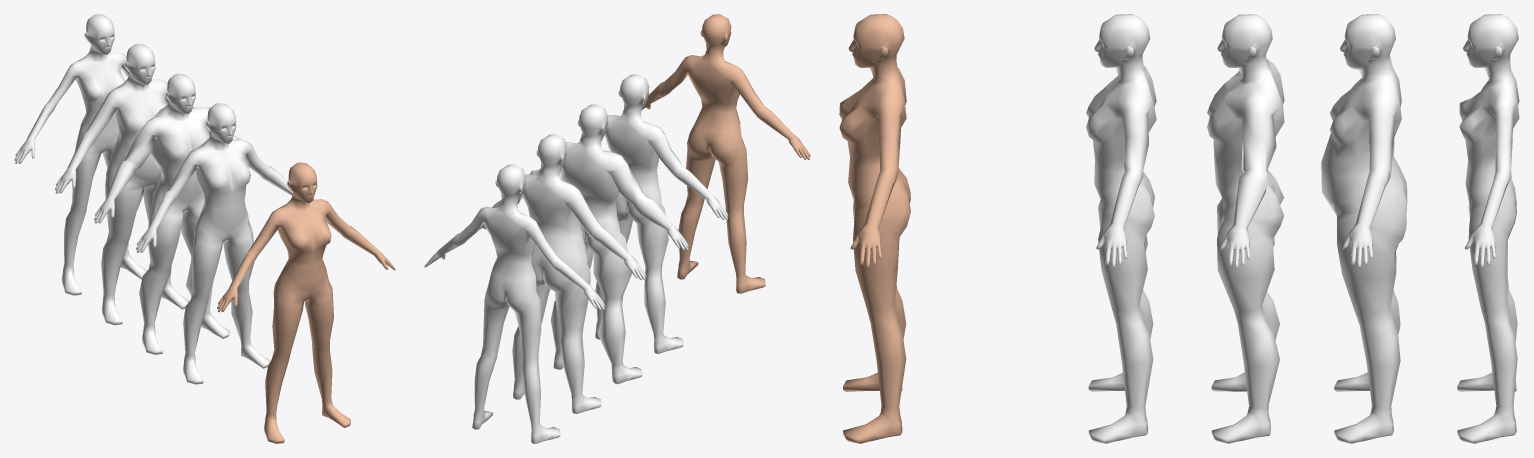
Rendered from woman_low_morph.glb.
3 renders of one model, left to right at view 1: azimuth 30°, elevation 25°; view 2: azimuth 150°, elevation 25°; view 3: azimuth 270°, elevation 25°, orthographic. The views are drawn at different scales.
Parts seen in each view (by area): view 1: body_low__M__CC, body_low__M__MUSCLE, body_low__M__MONSTER, body_low__M__BIG, body_low__M__LOW; view 2: body_low__M__CC, body_low__M__LOW, body_low__M__BIG, body_low__M__MONSTER, body_low__M__MUSCLE; view 3: body_low__M__BIG, body_low__M__MONSTER, body_low__M__MUSCLE, body_low__M__CC, body_low__M__LOW.
Boxes of the visible parts, bbox=[...] form: body_low__M__CC: bbox=[217, 162, 395, 443]; body_low__M__MUSCLE: bbox=[136, 103, 292, 384]; body_low__M__MONSTER: bbox=[94, 73, 240, 354]; body_low__M__BIG: bbox=[55, 43, 188, 325]; body_low__M__LOW: bbox=[14, 14, 147, 295]; body_low__M__CC: bbox=[642, 14, 810, 293]; body_low__M__LOW: bbox=[424, 164, 605, 443]; body_low__M__BIG: bbox=[479, 134, 646, 413]; body_low__M__MONSTER: bbox=[522, 104, 688, 384]; body_low__M__MUSCLE: bbox=[577, 74, 728, 353]; body_low__M__BIG: bbox=[1321, 14, 1407, 443]; body_low__M__MONSTER: bbox=[1207, 14, 1284, 443]; body_low__M__MUSCLE: bbox=[1086, 14, 1156, 443]; body_low__M__CC: bbox=[839, 14, 910, 443]; body_low__M__LOW: bbox=[1457, 14, 1519, 443].
Bounding box in the file's own units: 1.28 × 1.79 × 2.77.
